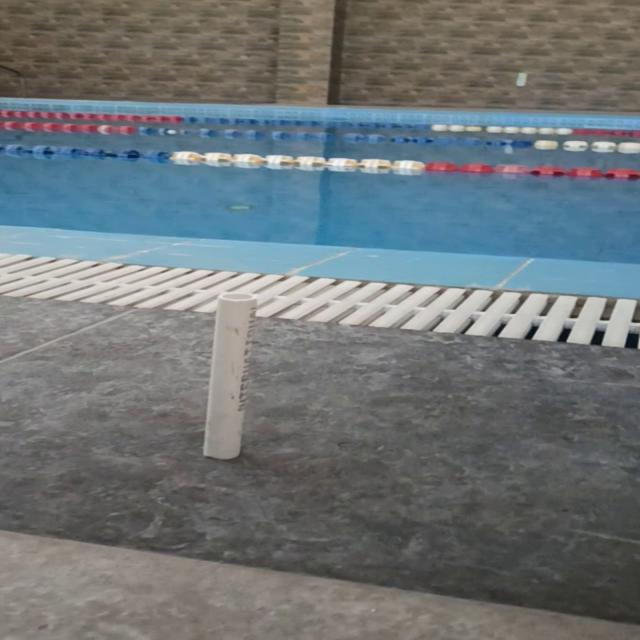Cube: (200, 292, 258, 460)
